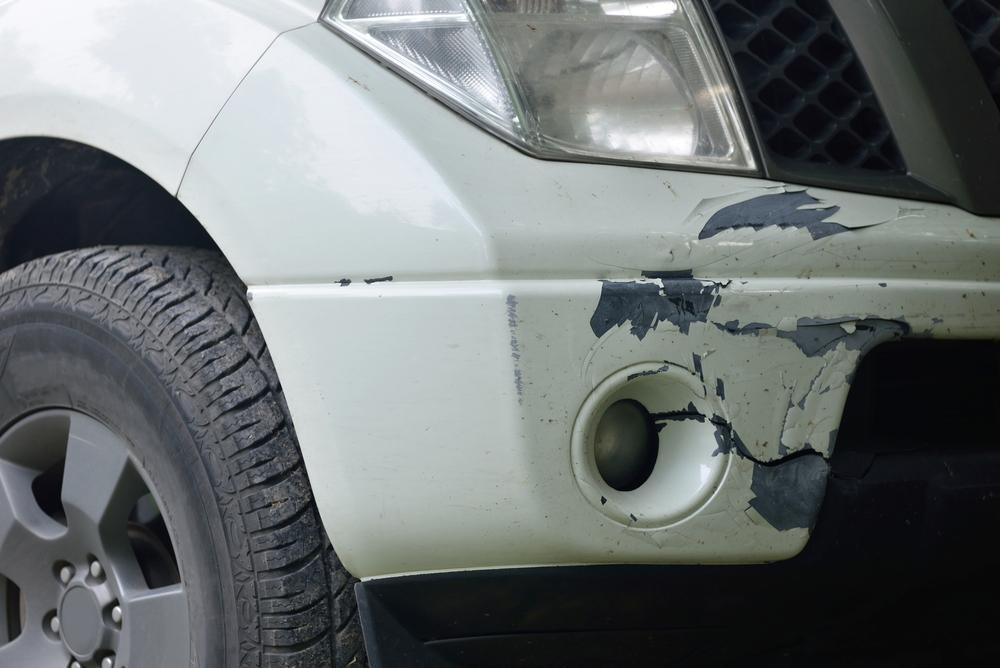crack: (650, 411, 823, 468)
scratch: (590, 184, 919, 458), (743, 457, 830, 536), (504, 292, 527, 414)
